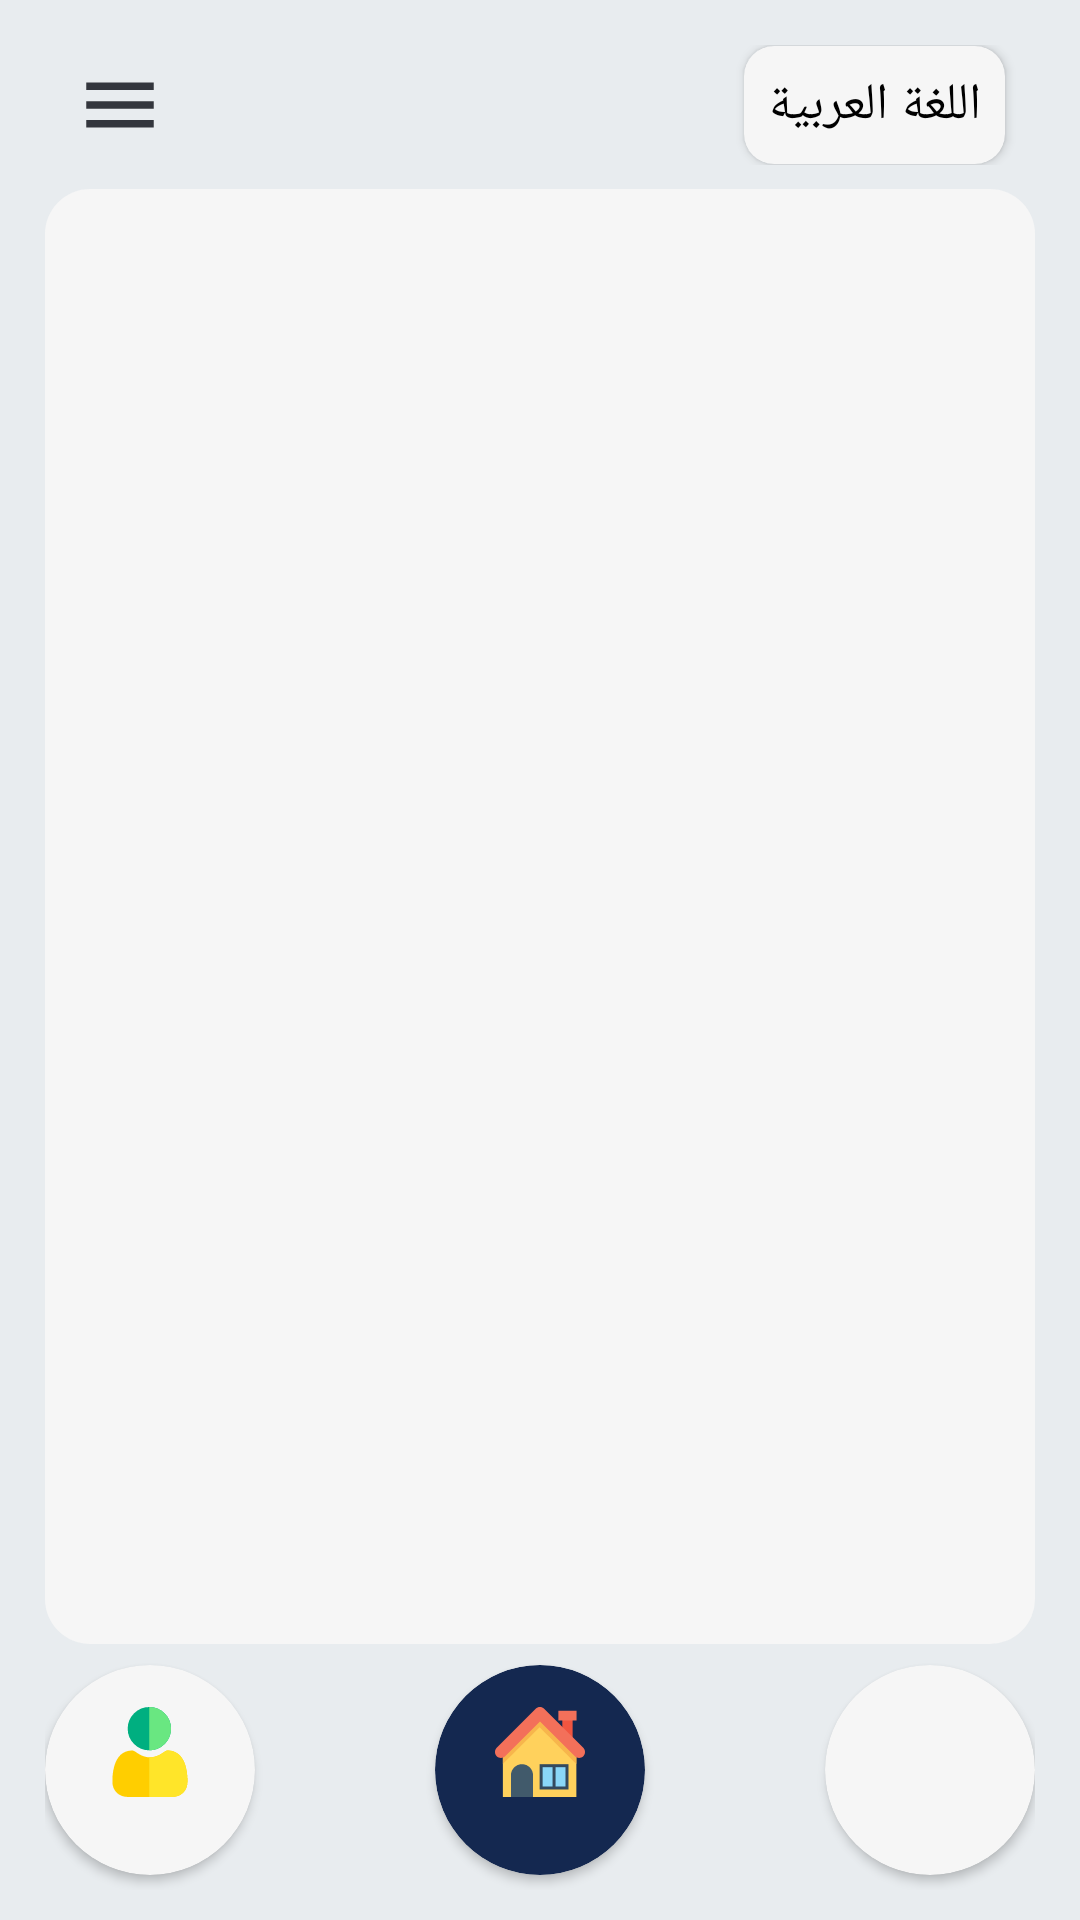

Point at icon controls on the screen. Image size 1080px×1920px, points as point (x, y).
home profile press: point (150, 1752)
home show: point (540, 1752)
menu: point (120, 105)
